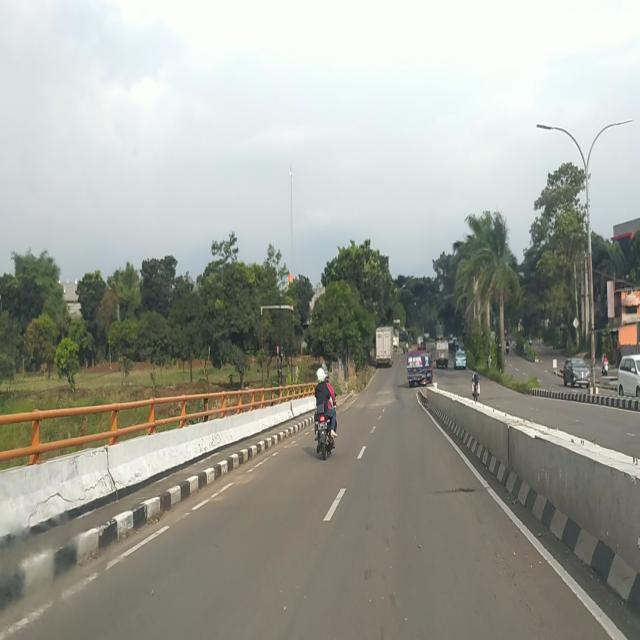Sewer Cover: (431, 487, 478, 497)
